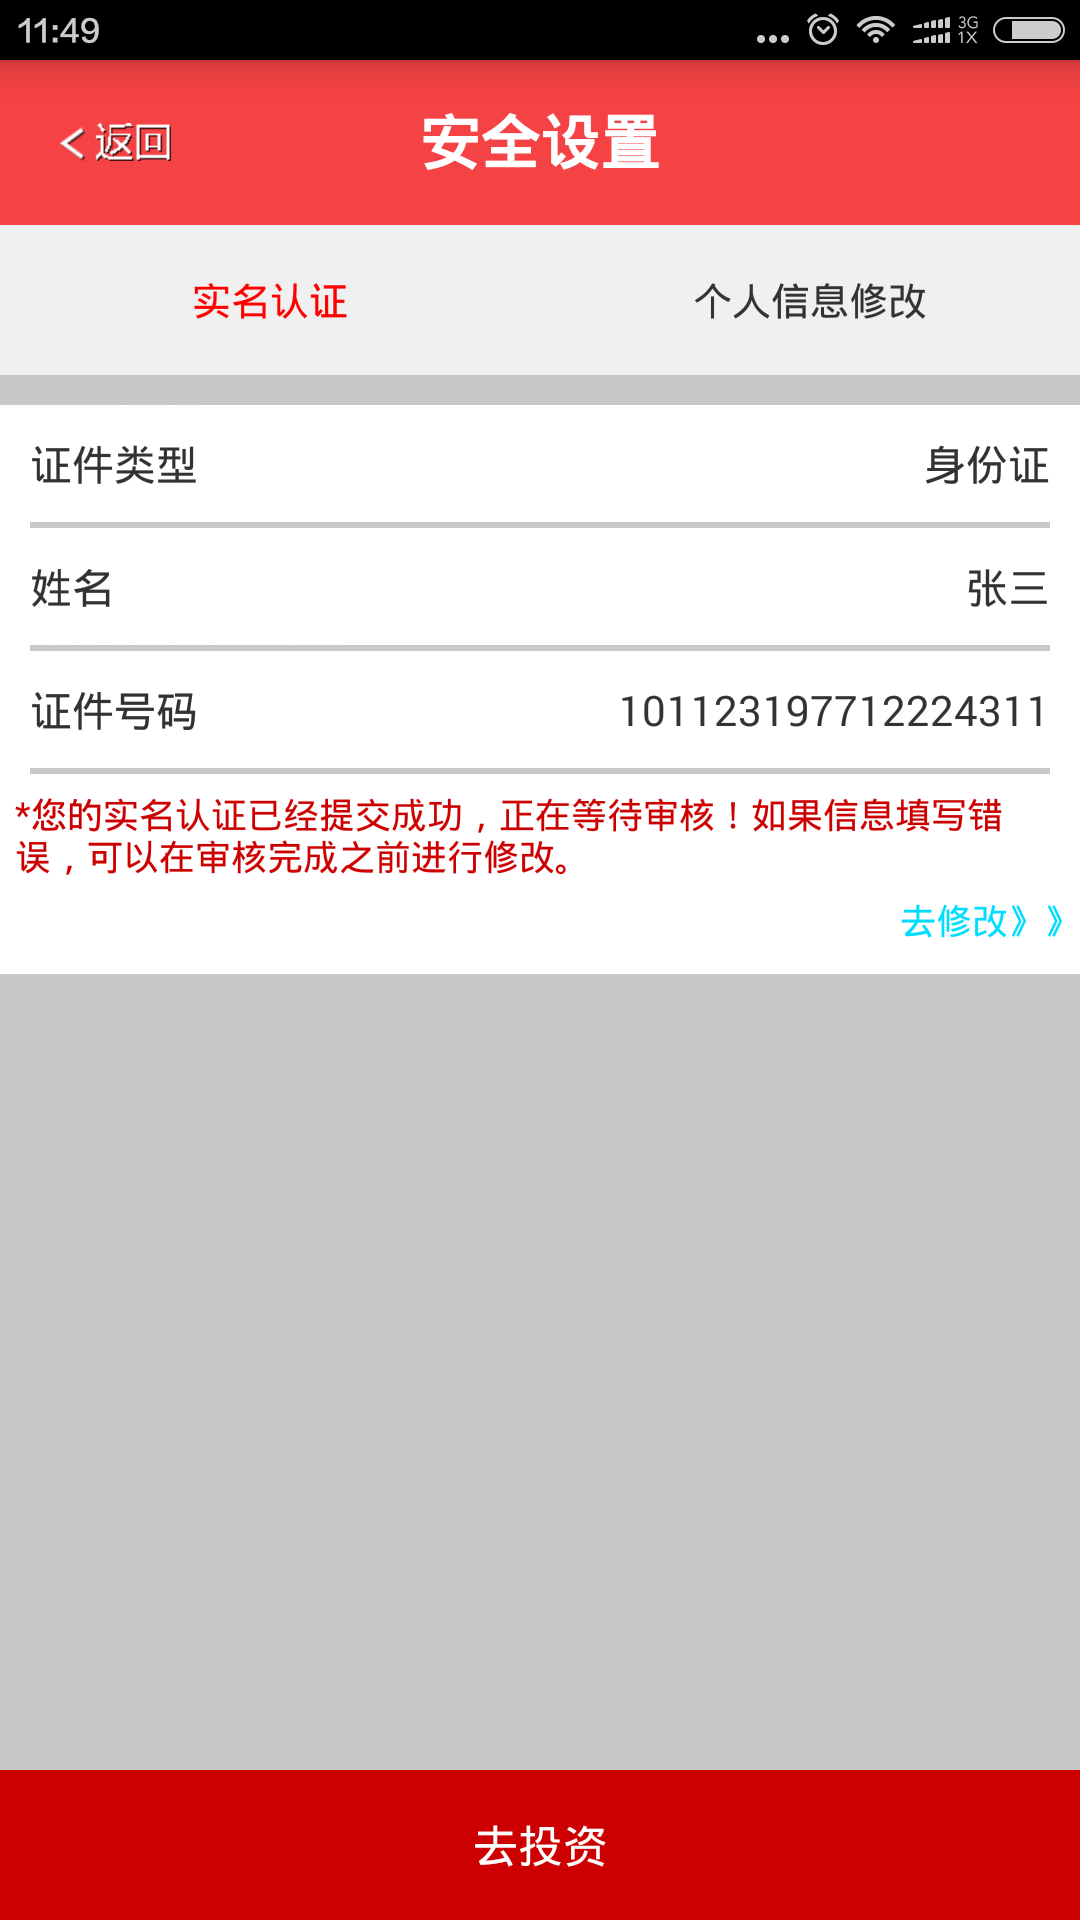textview: (11, 407, 1080, 990)
